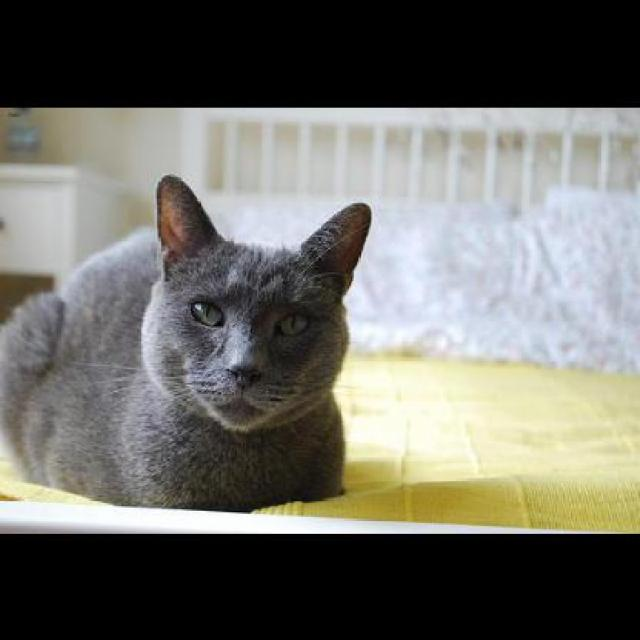unauthorized: (0, 172, 372, 512)
